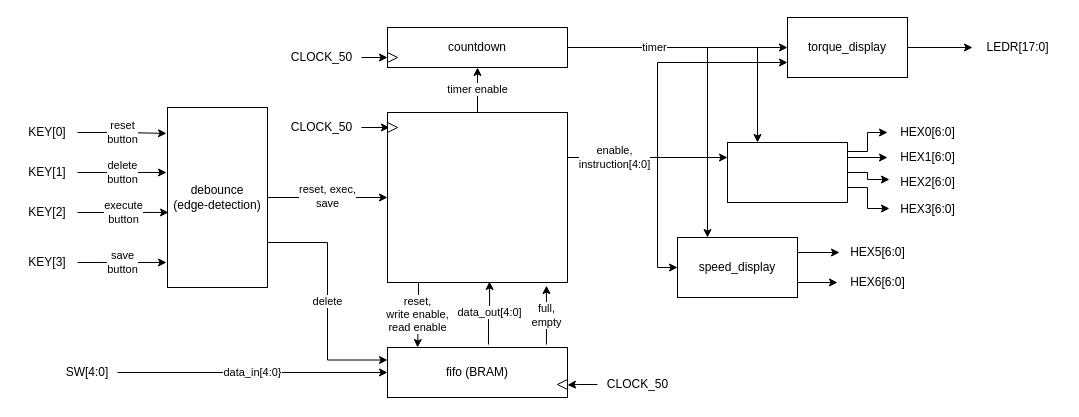
Some shapes in this 1079 by 417 pixel diagram are drawn without their labels. The centre of each missing label's shape, as x and y in pixels:
"direction_display" goes at point (787, 172).
"FSM" goes at point (477, 197).
